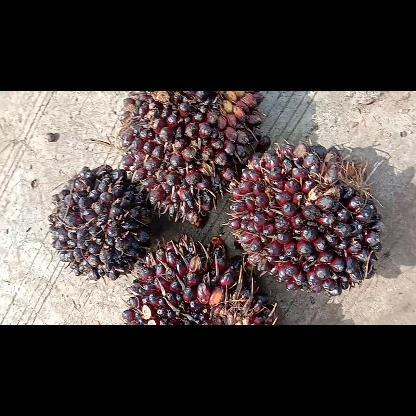TBS mentah: (226, 140, 382, 296), (113, 90, 262, 233), (120, 234, 284, 324), (44, 160, 154, 284)
